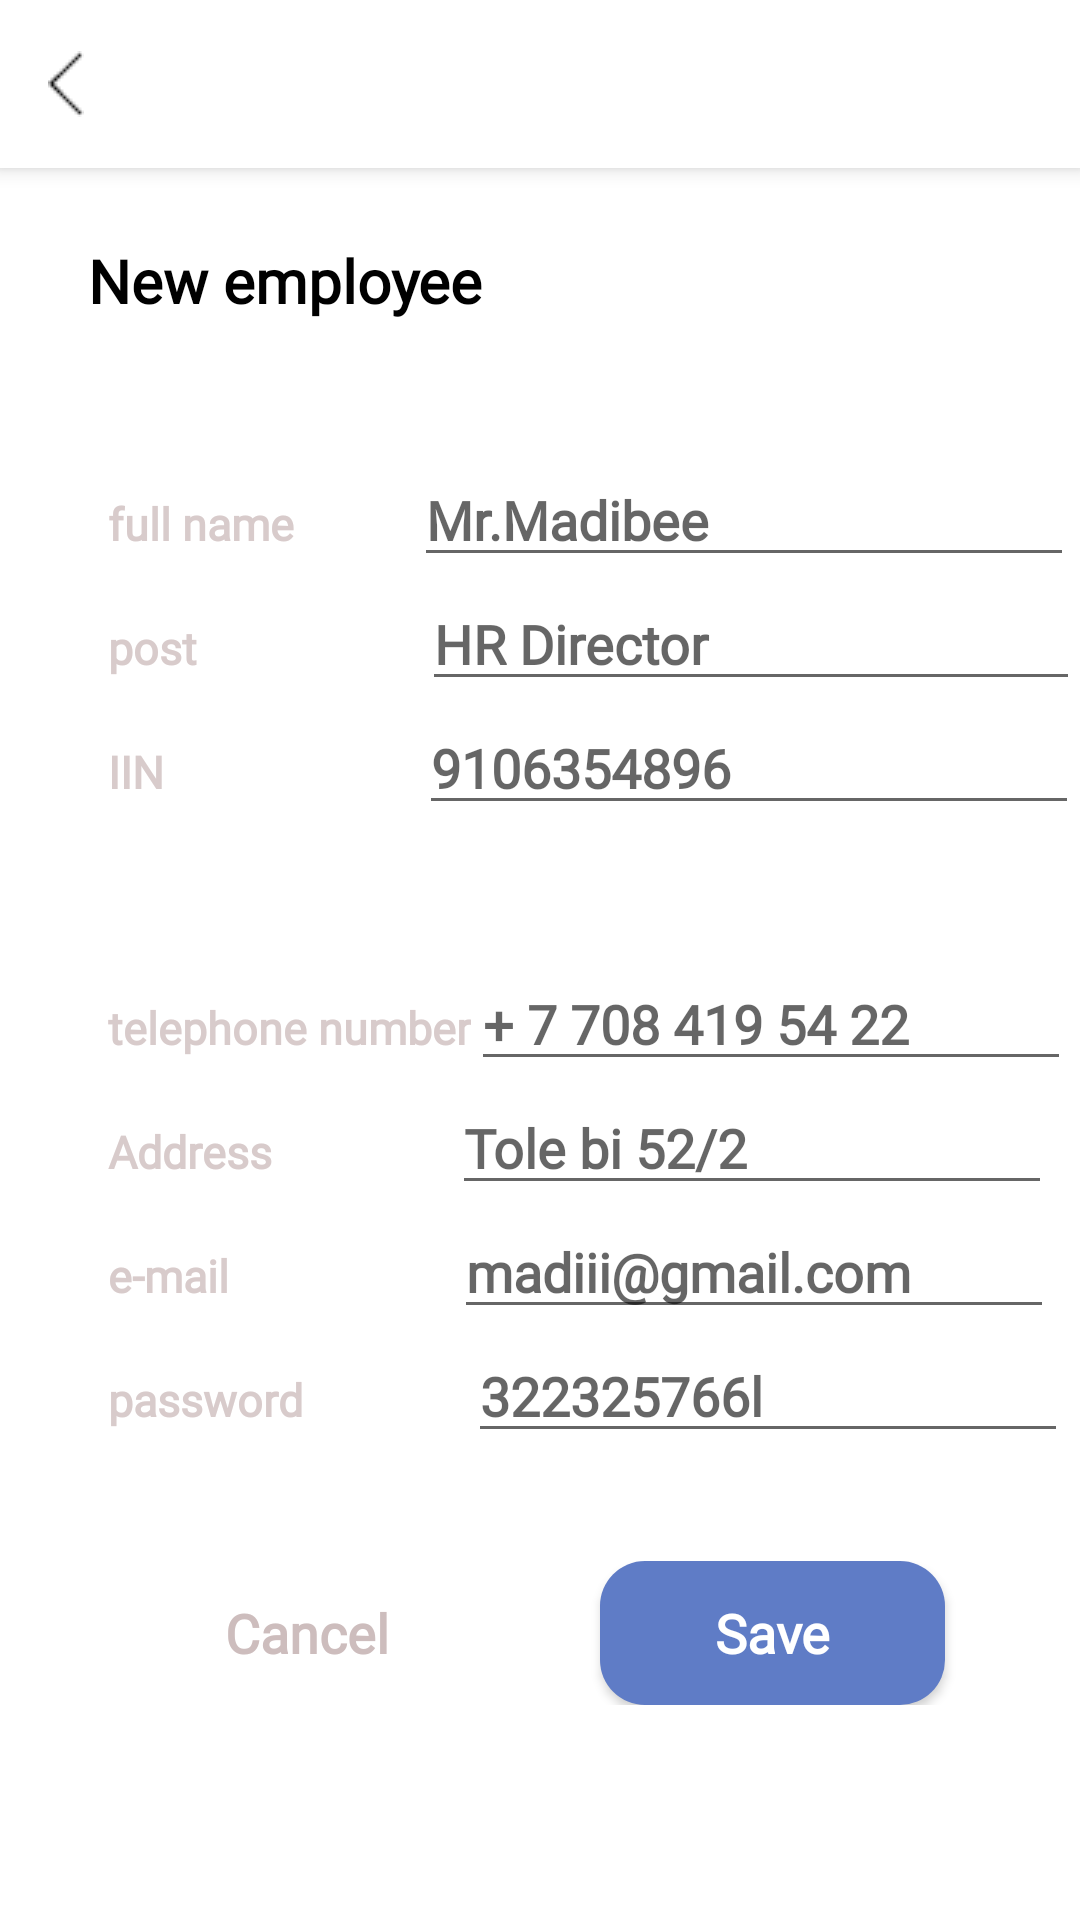

Where icons sit on this 1080×1920 app screen, as bbox(x1, y1, x2, y2):
back: bbox(48, 51, 84, 115)
